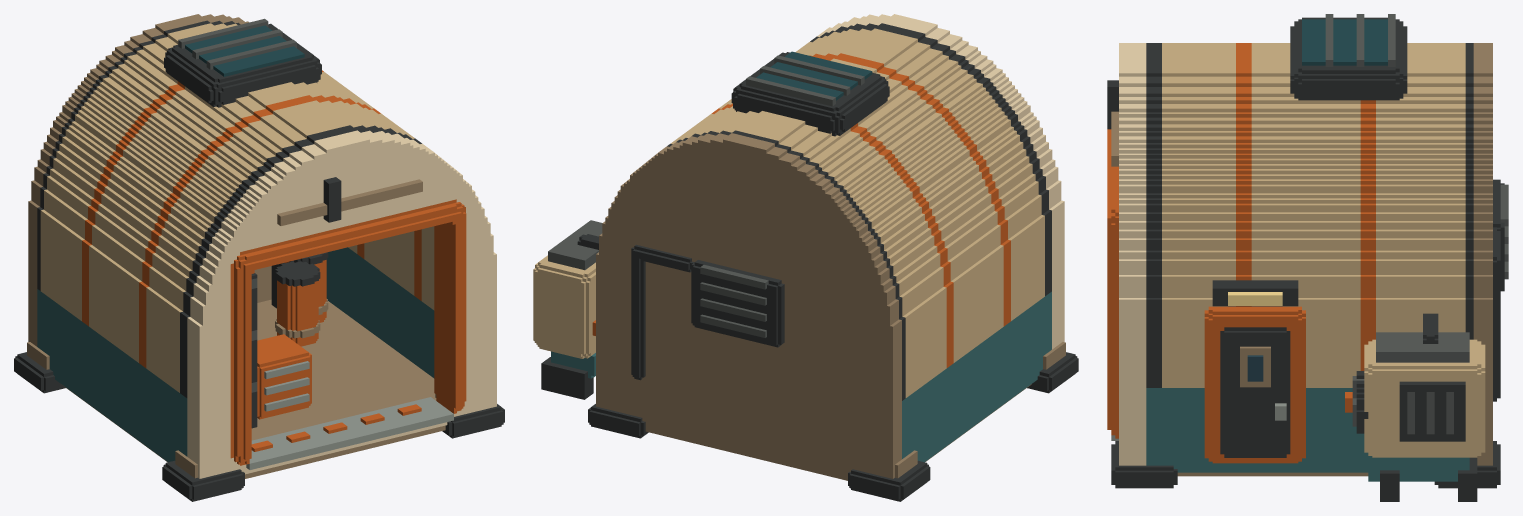
The model's file is repair_garage.glb.
3 views of the same model, side by side, from view 1: azimuth 30°, elevation 25°; view 2: azimuth 150°, elevation 25°; view 3: azimuth 270°, elevation 25° (orthographic). The views are drawn at different scales.
Visible parts, largest first — view 1: repair_garage; view 2: repair_garage; view 3: repair_garage.
Part boxes in pixels (x1,y1,x2,y2): repair_garage: [14, 14, 504, 501]; repair_garage: [533, 14, 1078, 501]; repair_garage: [1107, 14, 1508, 501].
Size of the model in its own units: 8.06 by 6.82 by 6.69.
